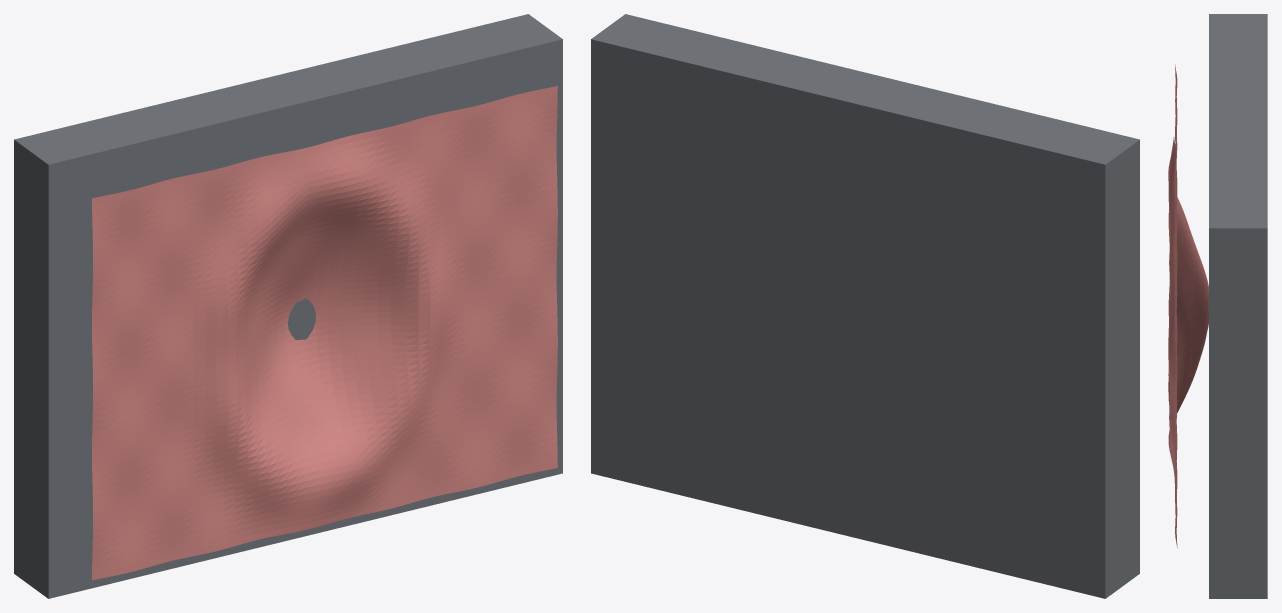
File: dranmar_wound_bed_cleaned.glb
3 views of the same model, side by side, from view 1: azimuth 30°, elevation 25°; view 2: azimuth 150°, elevation 25°; view 3: azimuth 270°, elevation 25° (orthographic). The views are drawn at different scales.
Visible parts, largest first — view 1: wound_surface, wound_base; view 2: wound_base; view 3: wound_base, wound_surface.
Boxes of the visible parts, x1=… form: wound_surface: x1=92, y1=86, x2=557, y2=580; wound_base: x1=14, y1=14, x2=562, y2=598; wound_base: x1=591, y1=14, x2=1139, y2=598; wound_base: x1=1209, y1=14, x2=1267, y2=598; wound_surface: x1=1168, y1=64, x2=1208, y2=548.
Size of the model in its own units: 0.155 by 0.125 by 0.0304.
